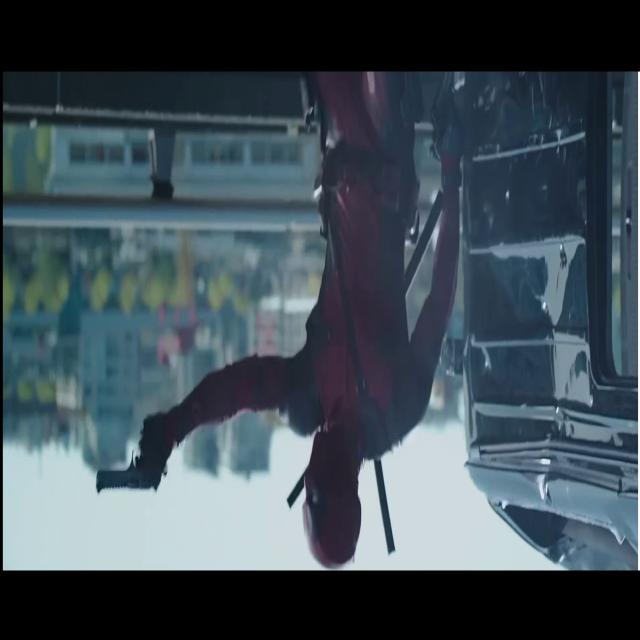weapons: (88, 398, 172, 518)
